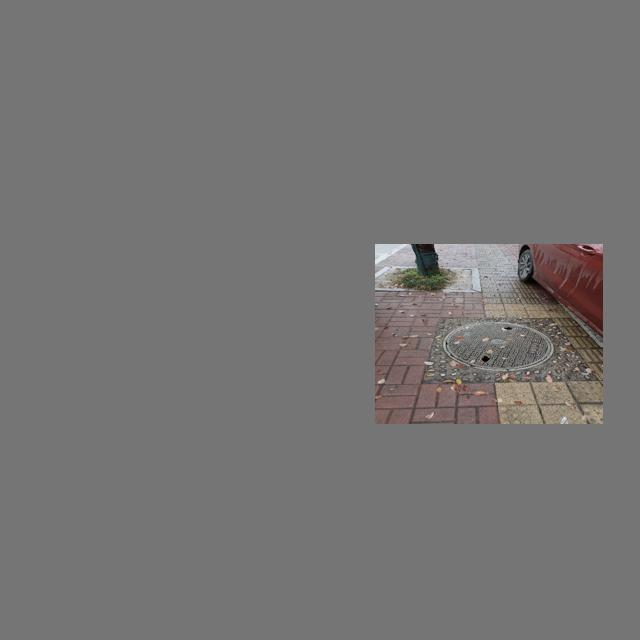good: (444, 321, 555, 370)
